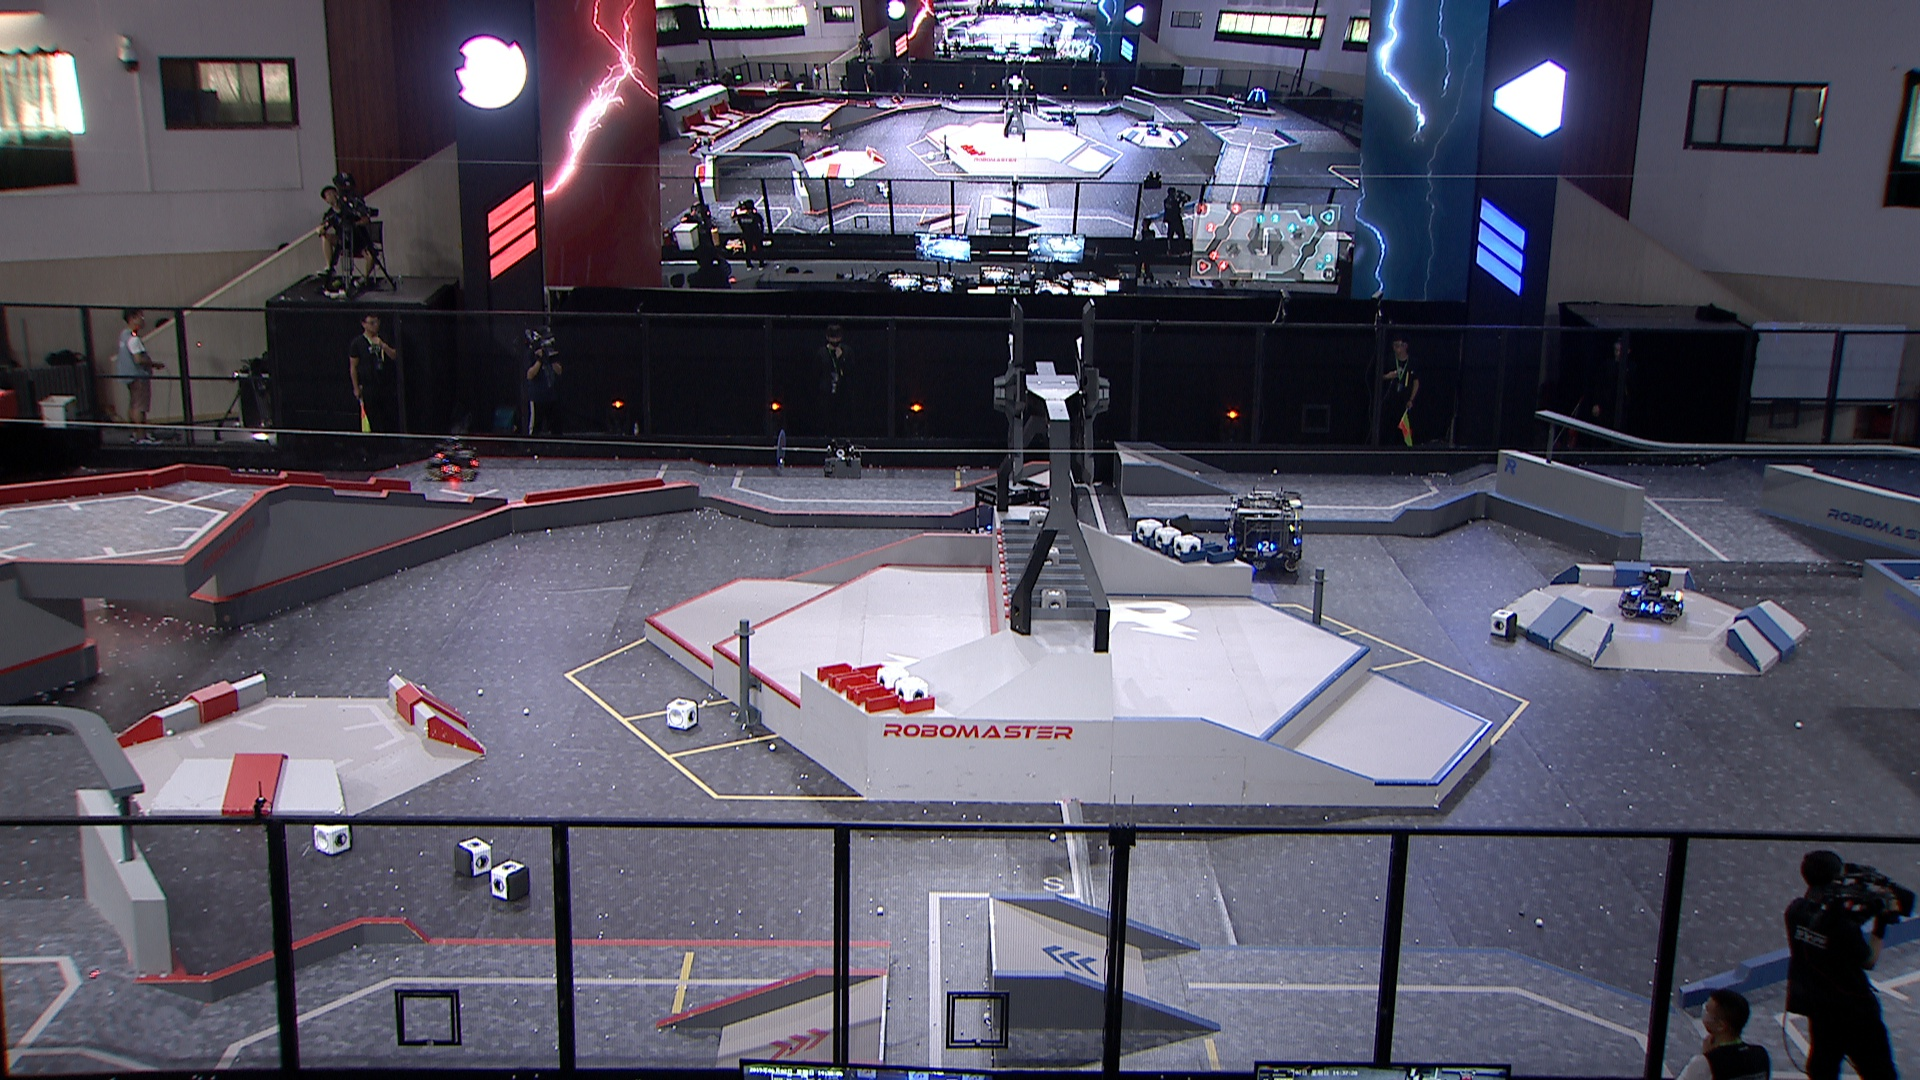armor: (1638, 600, 1662, 616), (1255, 538, 1276, 555), (440, 462, 463, 477), (1629, 584, 1643, 597)
car: (1224, 488, 1305, 575), (968, 479, 1054, 560), (1618, 568, 1687, 626), (425, 436, 480, 484)
ignore: (683, 202, 713, 228), (1244, 87, 1269, 112), (732, 200, 760, 223), (686, 138, 713, 157), (1062, 107, 1079, 128), (1145, 123, 1162, 138), (1224, 96, 1238, 111), (891, 92, 907, 105)
